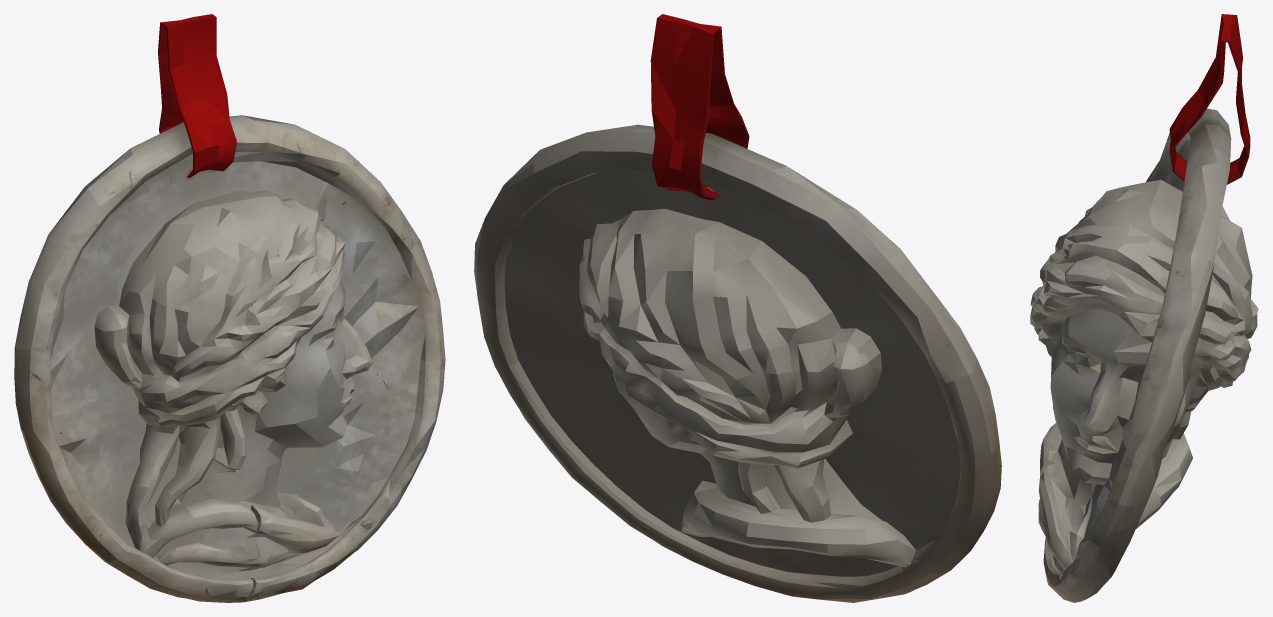
File: item_veil_seal.glb
3 views of the same model, side by side, from view 1: azimuth 30°, elevation 25°; view 2: azimuth 150°, elevation 25°; view 3: azimuth 270°, elevation 25° (orthographic). The views are drawn at different scales.
Visible parts, largest first — view 1: item_veil_seal; view 2: item_veil_seal; view 3: item_veil_seal.
Boxes of the visible parts, bbox=[...] form: item_veil_seal: bbox=[14, 14, 445, 602]; item_veil_seal: bbox=[474, 14, 1001, 602]; item_veil_seal: bbox=[1030, 14, 1258, 602].
Bounding box in the file's own units: 0.0919 × 0.11 × 0.0413.
Materials: 1 (1 with a texture image).
